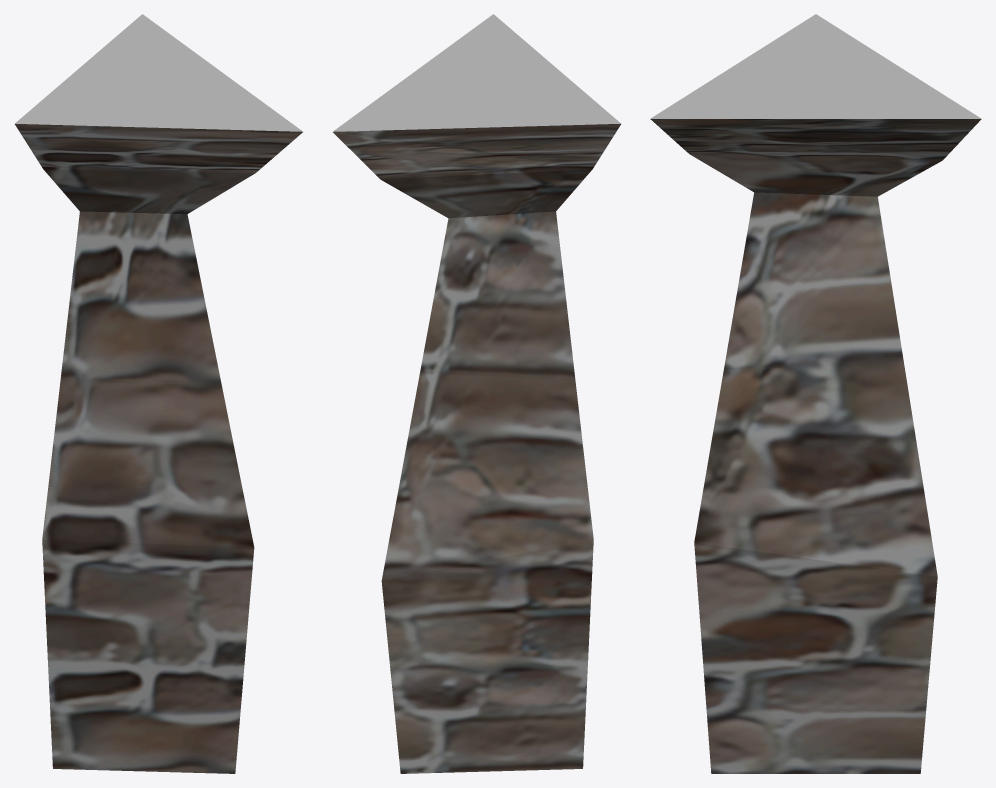
File: Säule_Stein_1857.glb
3 renders of one model, left to right at view 1: azimuth 30°, elevation 25°; view 2: azimuth 150°, elevation 25°; view 3: azimuth 270°, elevation 25°, orthographic. The views are drawn at different scales.
Parts seen in each view (by area): view 1: pCylinderShape91, polySurfaceShape1069; view 2: pCylinderShape91, polySurfaceShape1069; view 3: pCylinderShape91, polySurfaceShape1069.
Part boxes in pixels (x1,y1,x2,y2): pCylinderShape91: (15, 124, 302, 773); polySurfaceShape1069: (15, 14, 302, 131); pCylinderShape91: (333, 124, 620, 773); polySurfaceShape1069: (333, 14, 620, 131); pCylinderShape91: (650, 119, 981, 773); polySurfaceShape1069: (650, 14, 981, 118).
Size of the model in its own units: 0.1165 by 0.3495 by 0.1559.
2 materials, 1 textured.
